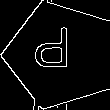P_S: (42, 30, 80, 80)
